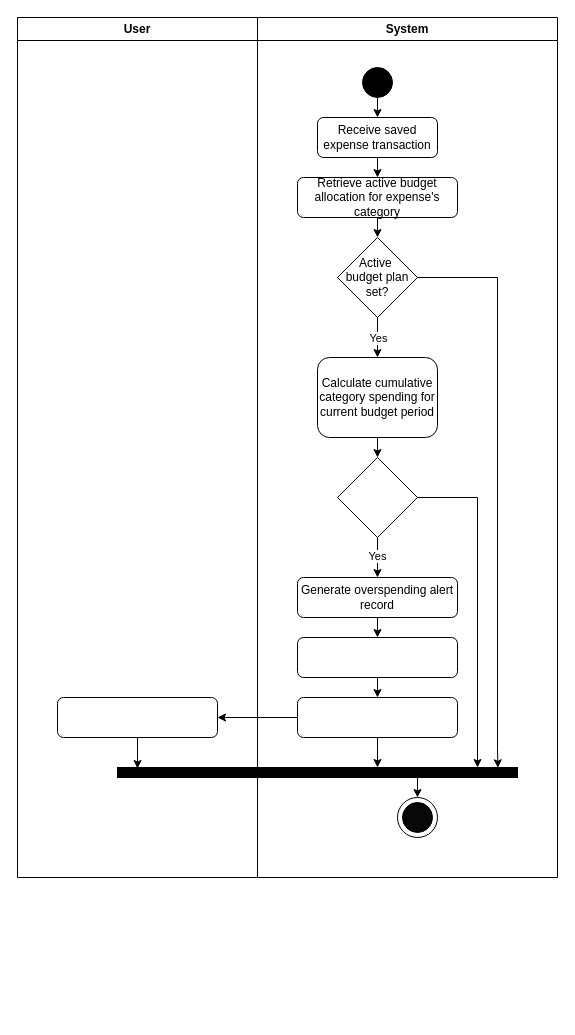
The diagram is 575 pixels wide and 1035 high, and some of its shapes have lost their labels. Each missing label, with the centre of its shape:
Display overspending alert notification to user: point 377,717
Exceeds allocation?: point 377,497
Save overspending record to database: point 377,657
User views overage alert on dashboard or notification: point 137,717
